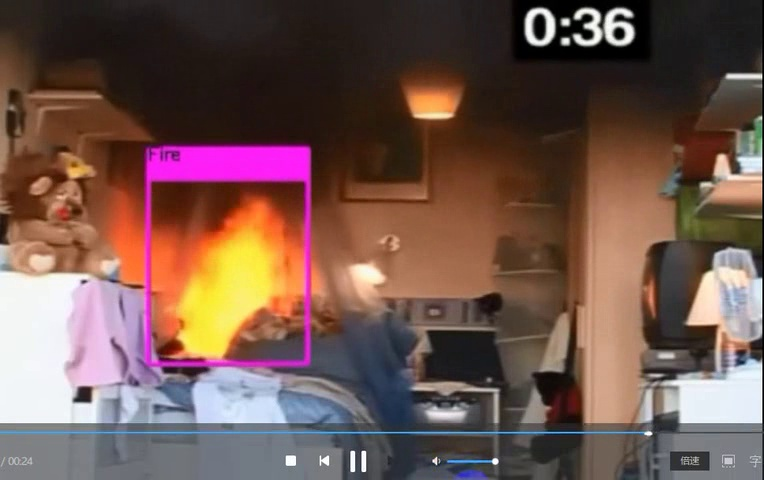fire: (166, 184, 299, 361)
